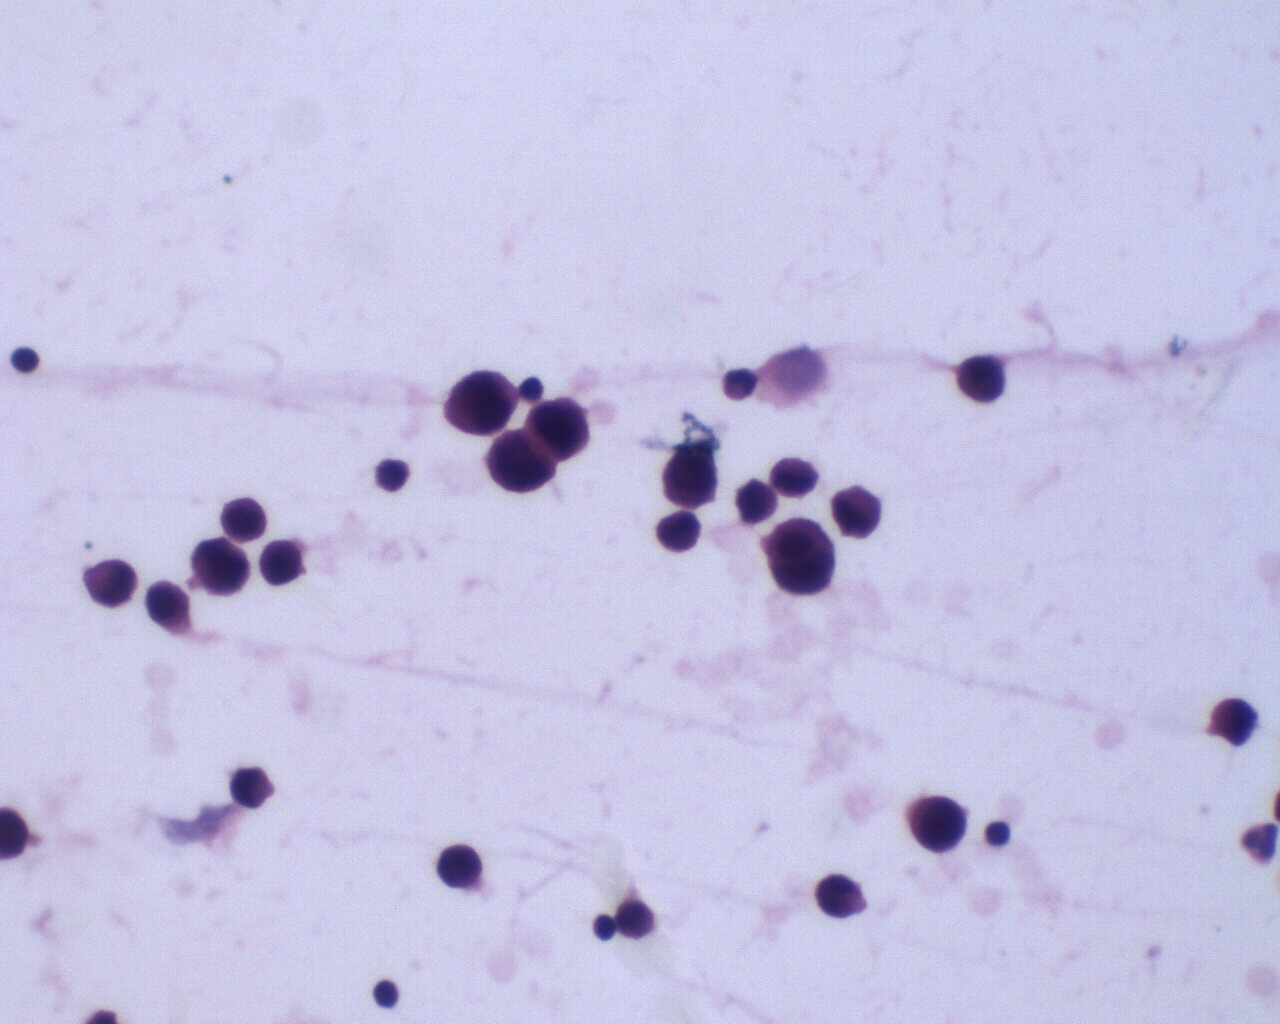ab: (439, 365, 521, 442), (765, 517, 840, 598), (487, 427, 556, 495), (904, 790, 972, 855), (529, 396, 591, 464), (190, 535, 252, 600), (86, 557, 141, 612), (833, 483, 886, 539), (1209, 692, 1262, 748), (219, 493, 271, 545), (256, 535, 308, 586), (955, 351, 1005, 403), (436, 843, 487, 893), (772, 451, 820, 501), (655, 507, 700, 554)
lymph: (371, 974, 402, 1011), (981, 815, 1015, 848)
neutro: (721, 365, 759, 405), (1241, 821, 1279, 860)
